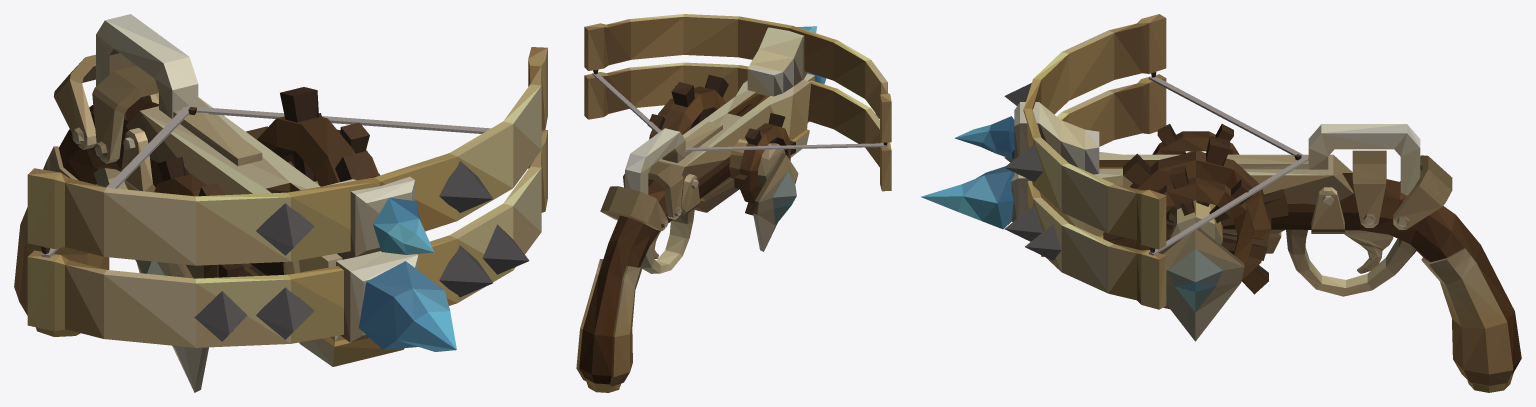
File: weapon_crossbow_gold_4.fbx
3 renders of one model, left to right at view 1: azimuth 30°, elevation 25°; view 2: azimuth 150°, elevation 25°; view 3: azimuth 270°, elevation 25°, orthographic. The views are drawn at different scales.
Parts seen in each view (by area): view 1: weapon_crossbow_gold_4; view 2: weapon_crossbow_gold_4; view 3: weapon_crossbow_gold_4.
Part boxes in pixels (x1,y1,x2,y2): weapon_crossbow_gold_4: (14,14,547,392); weapon_crossbow_gold_4: (576,14,891,392); weapon_crossbow_gold_4: (920,14,1521,392).
Bounding box in the file's own units: 0.8673 × 0.6057 × 1.19.
